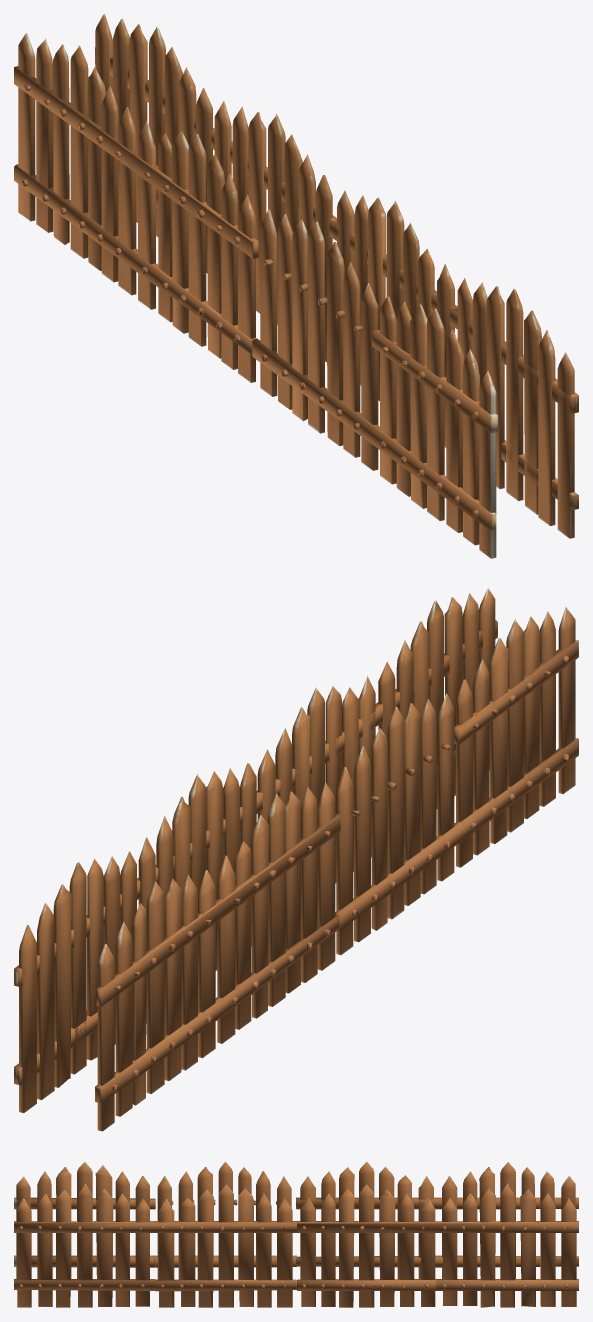
File: tripo_convert_c933fa37-1a2c-4b1c-b018-6d3b8a64b4de.fbx
3 renders of one model, top to bottom at view 1: azimuth 30°, elevation 25°; view 2: azimuth 150°, elevation 25°; view 3: azimuth 270°, elevation 25°, orthographic. The views are drawn at different scales.
Visible parts, largest first — view 1: tripo_node_c933fa37; view 2: tripo_node_c933fa37; view 3: tripo_node_c933fa37.
Boxes of the visible parts, x1,y1,x2,y2 form: tripo_node_c933fa37: (14,14,578,558); tripo_node_c933fa37: (14,588,578,1131); tripo_node_c933fa37: (14,1161,578,1307).
Size of the model in its own units: 0.1152 by 0.2402 by 0.998.
Materials: 1 (1 with a texture image).
